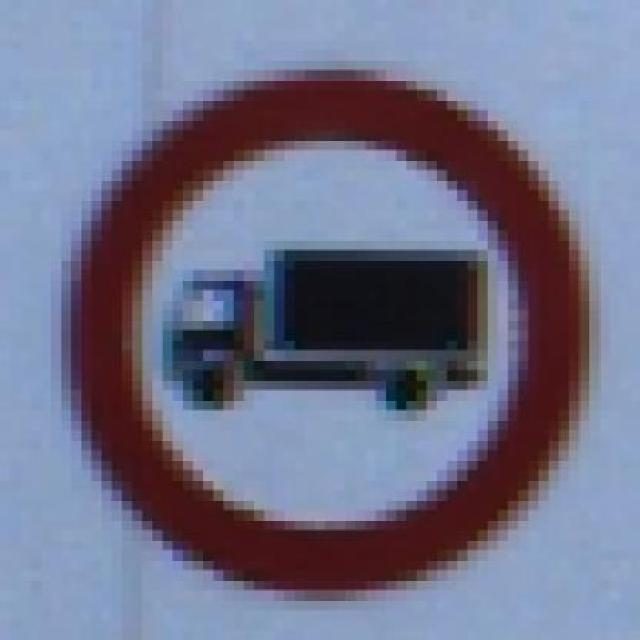Truck traffic is prohibited: (51, 60, 600, 600)
